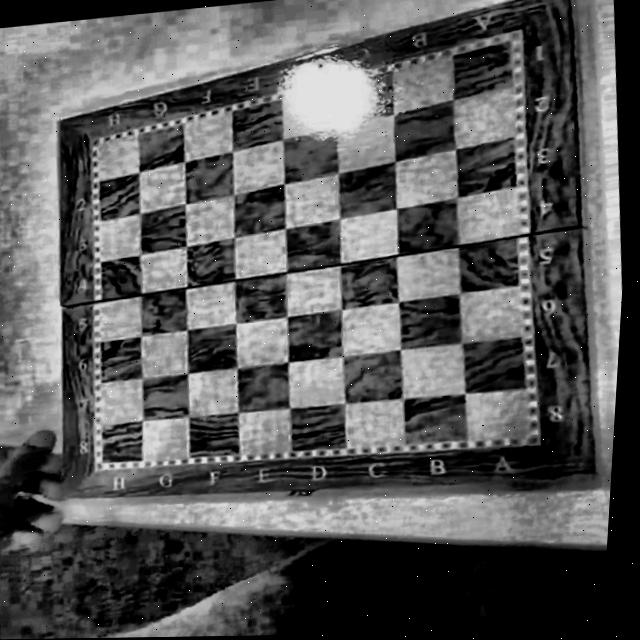chessboard: (62, 0, 600, 498)
